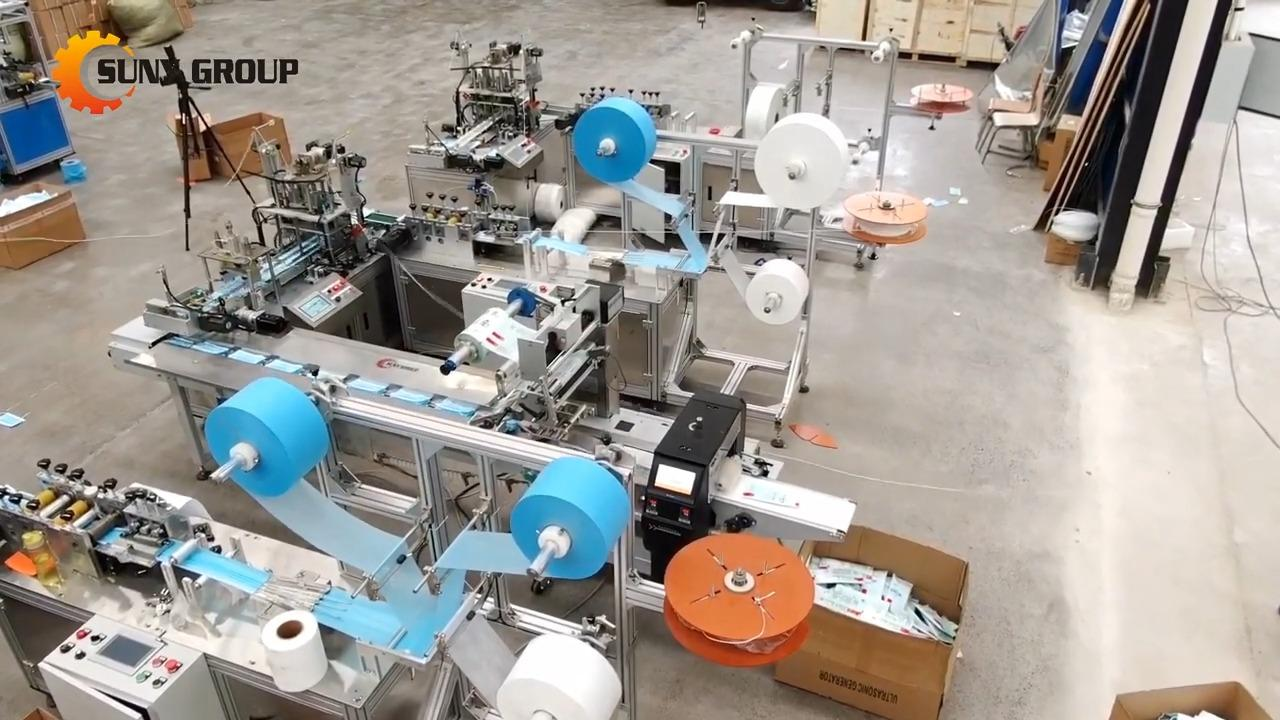mask: (437, 401, 480, 424), (347, 376, 388, 399), (391, 387, 433, 408), (266, 357, 302, 374), (190, 340, 226, 356), (227, 351, 263, 365), (2, 412, 24, 428)
